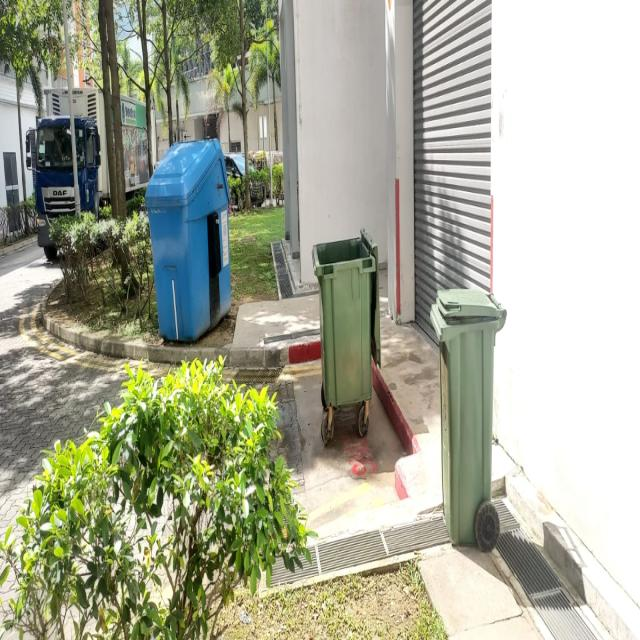bin_empty: (146, 136, 234, 340), (432, 290, 500, 548), (313, 234, 377, 409)
vehicle: (25, 90, 74, 257), (73, 87, 110, 212), (121, 96, 151, 193)
